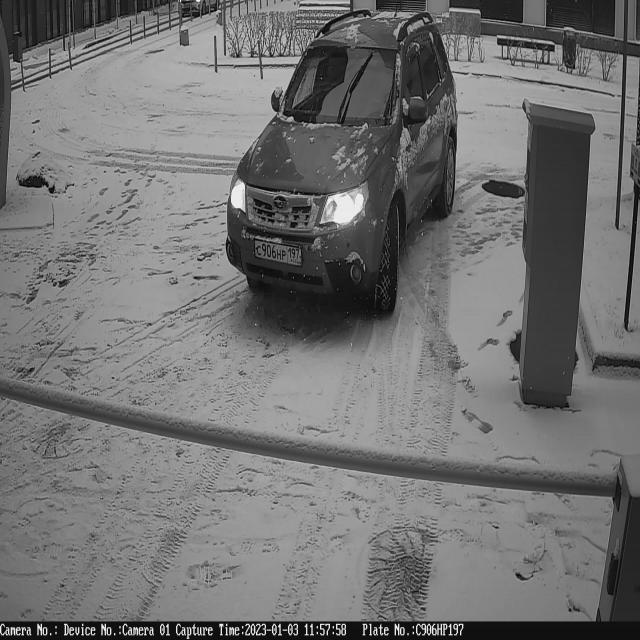car-plate-numbers: (252, 235, 304, 270)
